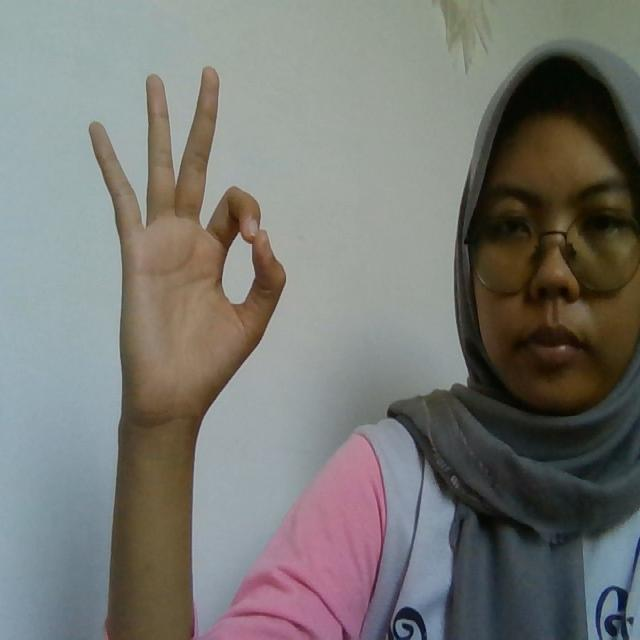F: (89, 64, 288, 422)
